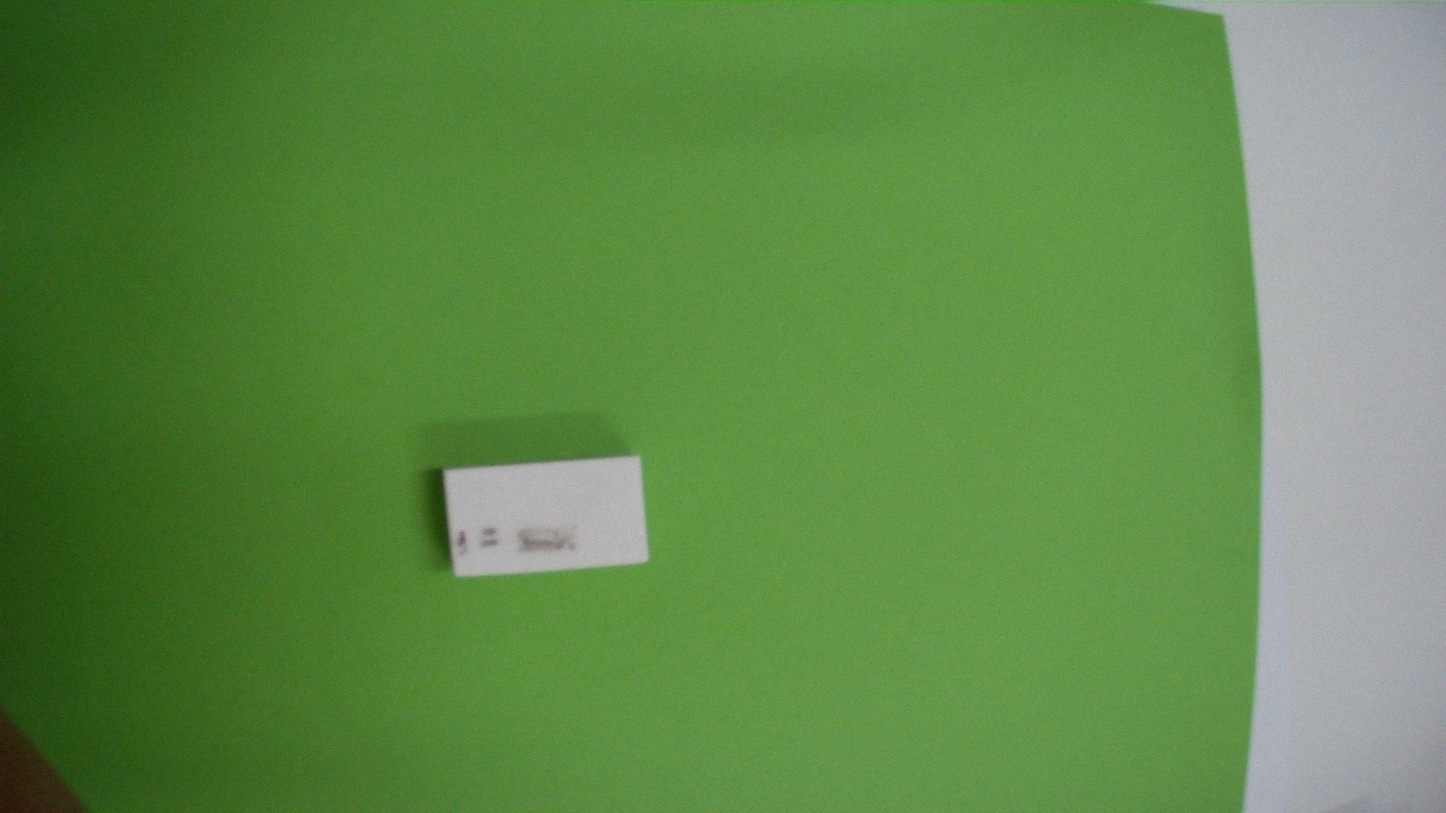gom: (439, 443, 649, 589)
